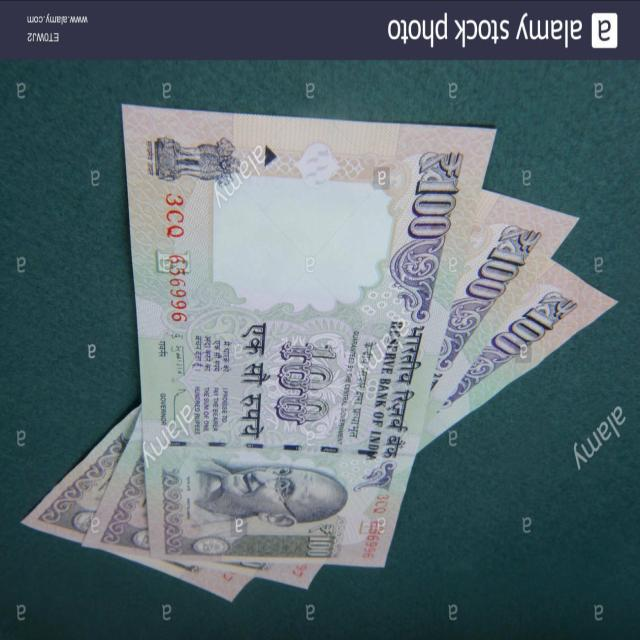100IndianRupees: (148, 133, 494, 571)
